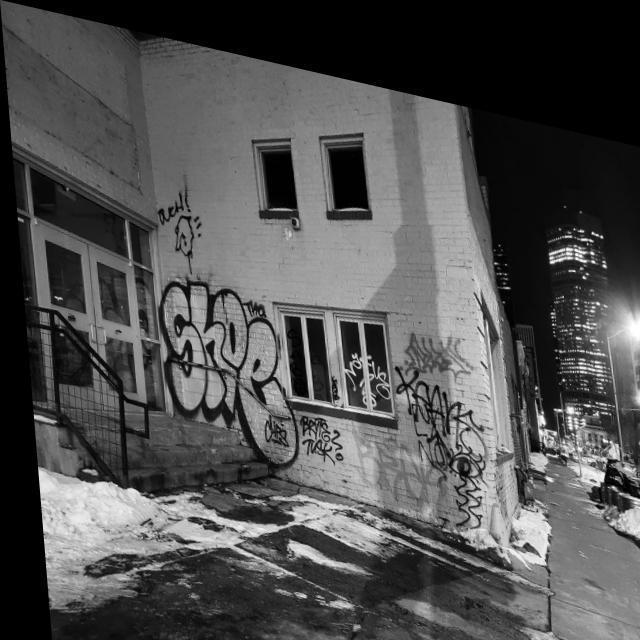nonspitting: (157, 278, 300, 468), (394, 366, 486, 529), (404, 332, 474, 379), (159, 190, 202, 256), (344, 352, 390, 408), (300, 416, 344, 466)
